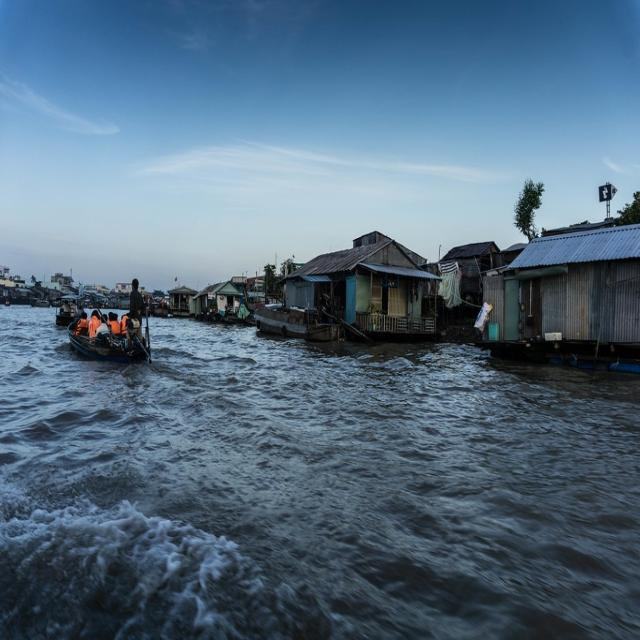boat: (69, 296, 153, 364), (251, 304, 325, 339), (56, 298, 87, 328)
